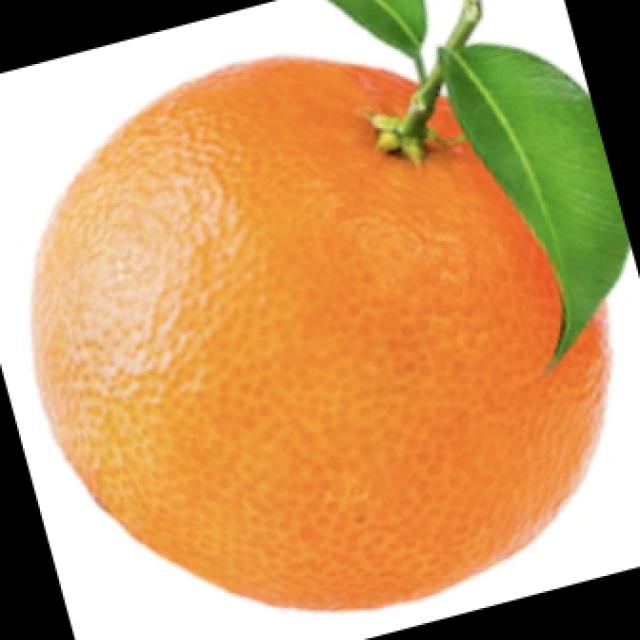orange: (28, 30, 611, 611)
